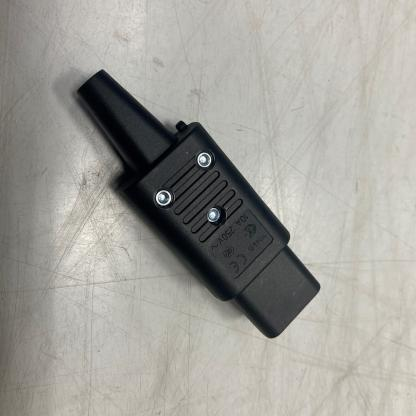SP0000006: (25, 35, 372, 376)
